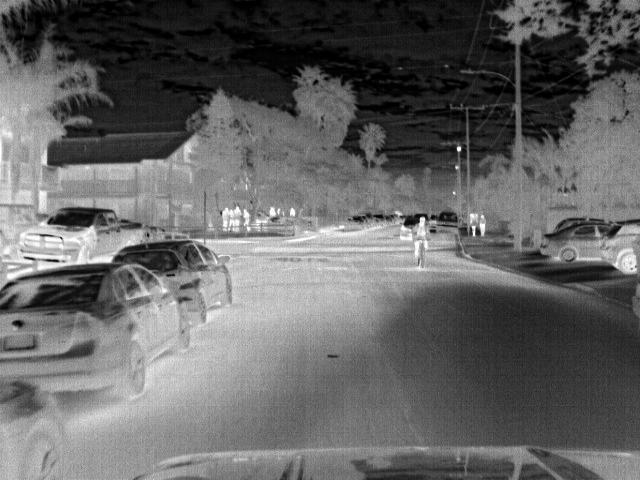car: (1, 263, 188, 405), (109, 237, 234, 329), (16, 207, 145, 265), (2, 378, 68, 477), (538, 221, 615, 268), (601, 218, 639, 276), (436, 211, 460, 233), (399, 215, 418, 237), (344, 214, 366, 230), (356, 212, 375, 227), (373, 213, 387, 226)
person: (413, 212, 432, 260), (474, 213, 488, 237), (230, 205, 243, 228), (240, 204, 253, 227), (266, 204, 279, 220), (287, 204, 299, 220)
